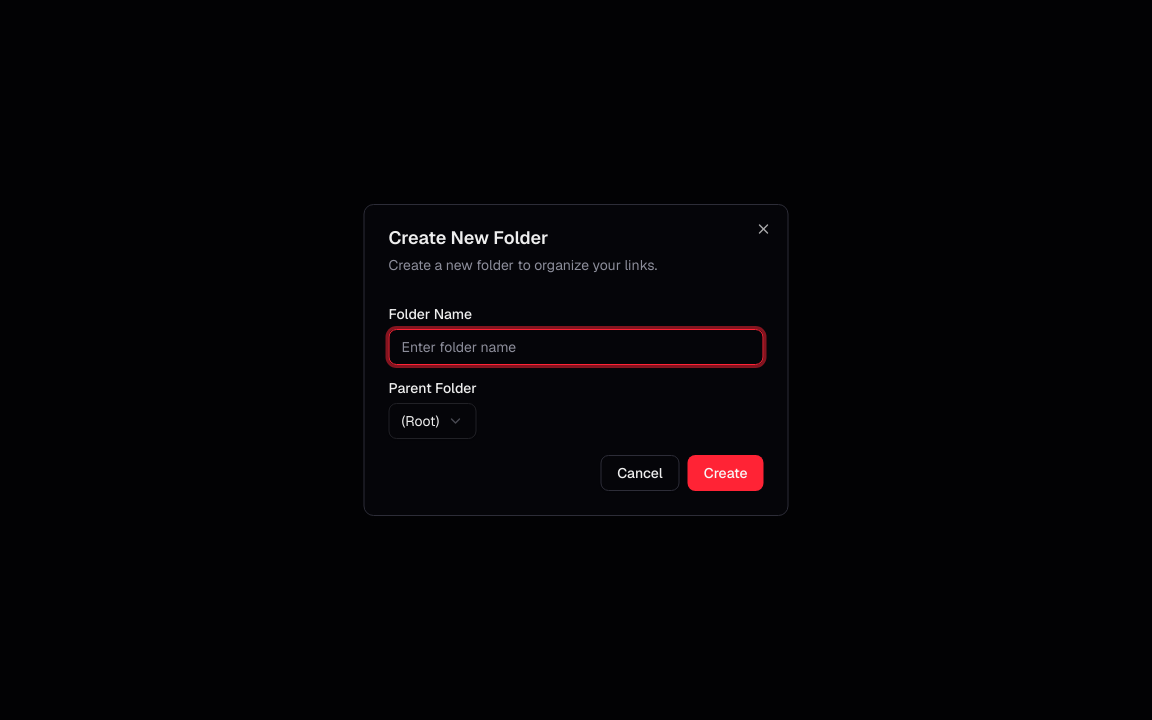
Test: CreateFolderDialog › should disable buttons while submitting
Step 1. Type "New Folder" into the field with test id "folder-name-input" → [576, 347], box [388,329,764,365]
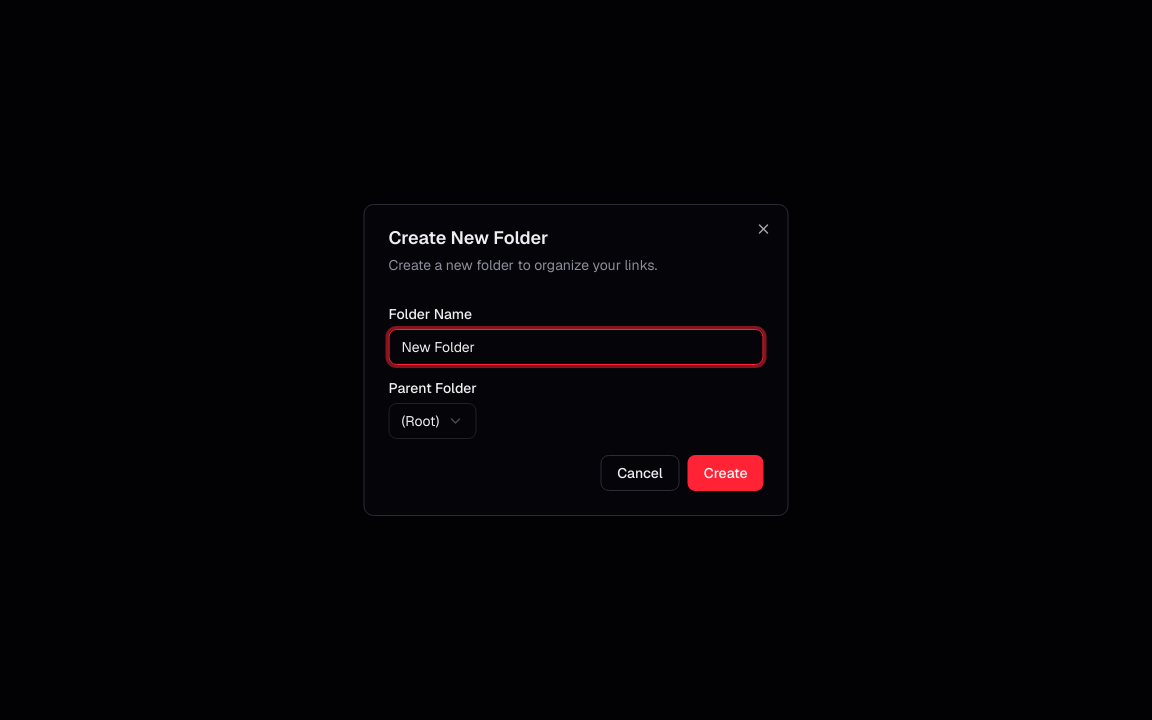
Step 2. Click the button with test id "create-button" → [726, 473], box [688,455,764,491]
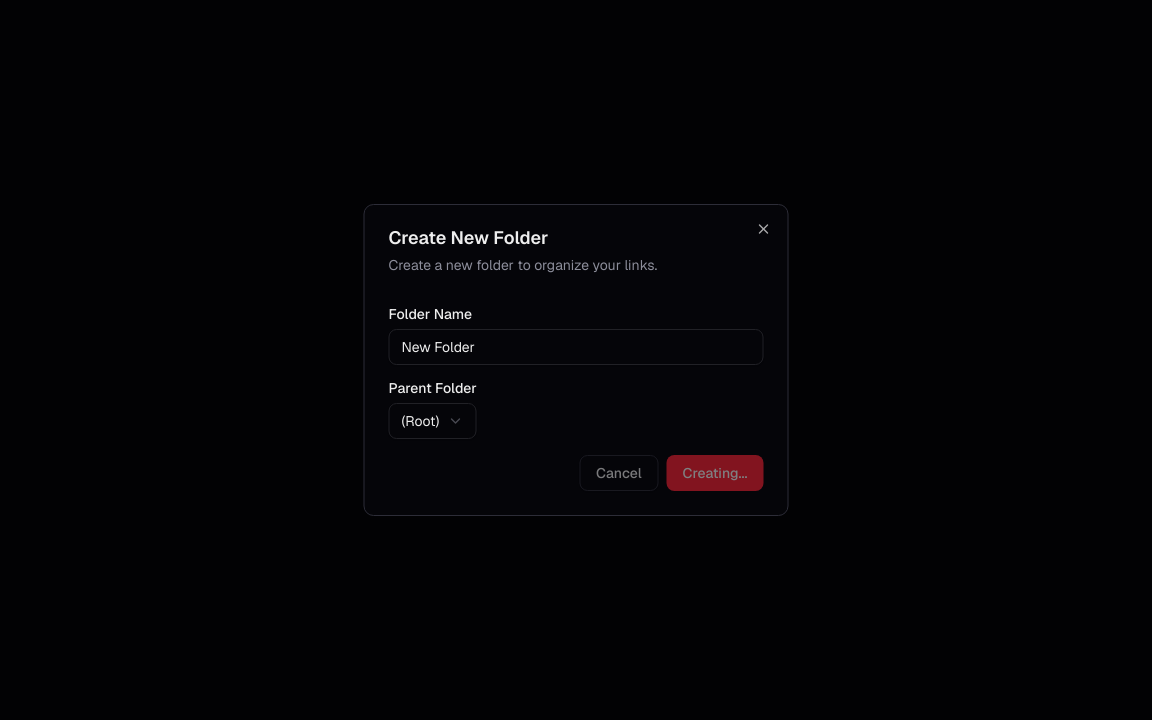
Check: the button with test id "create-button" is disabled, box [667,455,764,491]
Check: the button with test id "cancel-button" is disabled, box [579,455,659,491]
